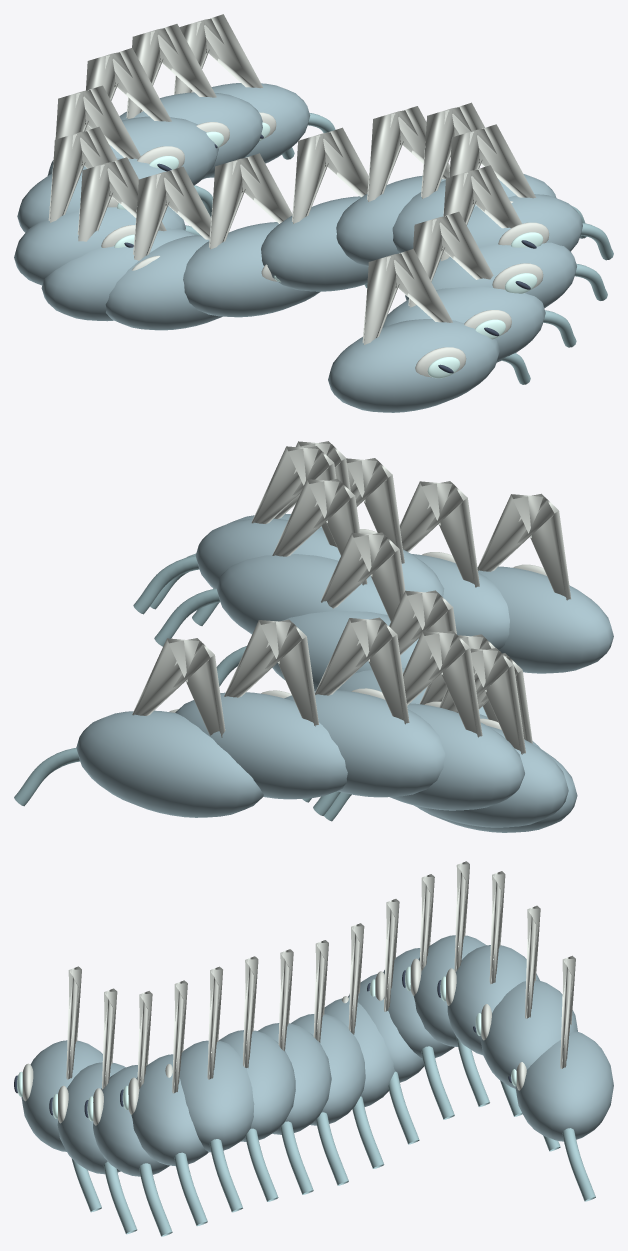
Rendered from bio_ribbon_colony_07_near.glb.
3 renders of one model, top to bottom at view 1: azimuth 30°, elevation 25°; view 2: azimuth 150°, elevation 25°; view 3: azimuth 270°, elevation 25°, orthographic. The views are drawn at different scales.
Visible parts, largest first — view 1: Overlapping folded ribbon, Overlapping folded ribbon.007, Overlapping folded ribbon.006, Overlapping folded ribbon.008, Overlapping folded ribbon.009, Raised pleated edge, Overlapping folded ribbon.010, Overlapping folded ribbon.001, Overlapping folded ribbon.002, Overlapping folded ribbon.005, Raised pleated edge.007, Raised pleated edge.008 (+21 smaller); view 2: Overlapping folded ribbon.014, Overlapping folded ribbon.013, Overlapping folded ribbon.012, Overlapping folded ribbon, Overlapping folded ribbon.005, Overlapping folded ribbon.011, Raised pleated edge.012, Raised pleated edge, Raised pleated edge.013, Raised pleated edge.014, Overlapping folded ribbon.010, Raised pleated edge.001 (+19 smaller); view 3: Overlapping folded ribbon.014, Overlapping folded ribbon.004, Overlapping folded ribbon.013, Overlapping folded ribbon.003, Overlapping folded ribbon.012, Overlapping folded ribbon.005, Overlapping folded ribbon, Overlapping folded ribbon.006, Overlapping folded ribbon.007, Overlapping folded ribbon.002, Overlapping folded ribbon.001, Overlapping folded ribbon.011 (+31 smaller).
Boxes of the visible parts, <box> form: Overlapping folded ribbon: <box>328,319,499,412</box>; Overlapping folded ribbon.007: <box>183,222,320,317</box>; Overlapping folded ribbon.006: <box>261,196,368,291</box>; Overlapping folded ribbon.008: <box>105,235,222,330</box>; Overlapping folded ribbon.009: <box>41,228,196,321</box>; Raised pleated edge: <box>362,249,466,377</box>; Overlapping folded ribbon.010: <box>14,206,185,285</box>; Overlapping folded ribbon.001: <box>382,286,545,362</box>; Overlapping folded ribbon.002: <box>405,242,576,308</box>; Overlapping folded ribbon.005: <box>336,175,445,266</box>; Raised pleated edge.007: <box>209,153,292,281</box>; Raised pleated edge.008: <box>133,166,211,260</box>; Overlapping folded ribbon.014: <box>76,710,263,817</box>; Overlapping folded ribbon.013: <box>175,692,347,799</box>; Overlapping folded ribbon.012: <box>284,690,445,797</box>; Overlapping folded ribbon: <box>477,566,613,673</box>; Overlapping folded ribbon.005: <box>216,554,387,634</box>; Overlapping folded ribbon.011: <box>390,703,524,810</box>; Raised pleated edge.012: <box>315,617,409,724</box>; Raised pleated edge: <box>477,493,571,600</box>; Raised pleated edge.013: <box>224,619,318,726</box>; Raised pleated edge.014: <box>132,638,225,737</box>; Overlapping folded ribbon.010: <box>414,726,568,827</box>; Raised pleated edge.001: <box>399,481,479,587</box>; Overlapping folded ribbon.014: <box>515,1031,613,1141</box>; Overlapping folded ribbon.004: <box>179,1040,254,1152</box>; Overlapping folded ribbon.013: <box>481,980,577,1088</box>; Overlapping folded ribbon.003: <box>131,1054,208,1166</box>; Overlapping folded ribbon.012: <box>447,945,539,1055</box>; Overlapping folded ribbon.005: <box>218,1030,295,1141</box>; Overlapping folded ribbon: <box>21,1040,102,1151</box>; Overlapping folded ribbon.006: <box>257,1023,331,1134</box>; Overlapping folded ribbon.007: <box>290,1014,365,1125</box>; Overlapping folded ribbon.002: <box>93,1065,169,1176</box>; Overlapping folded ribbon.001: <box>57,1062,125,1174</box>; Overlapping folded ribbon.011: <box>413,935,486,1046</box>.
Bounding box in the file's own units: 2.82 × 1.32 × 3.04.
